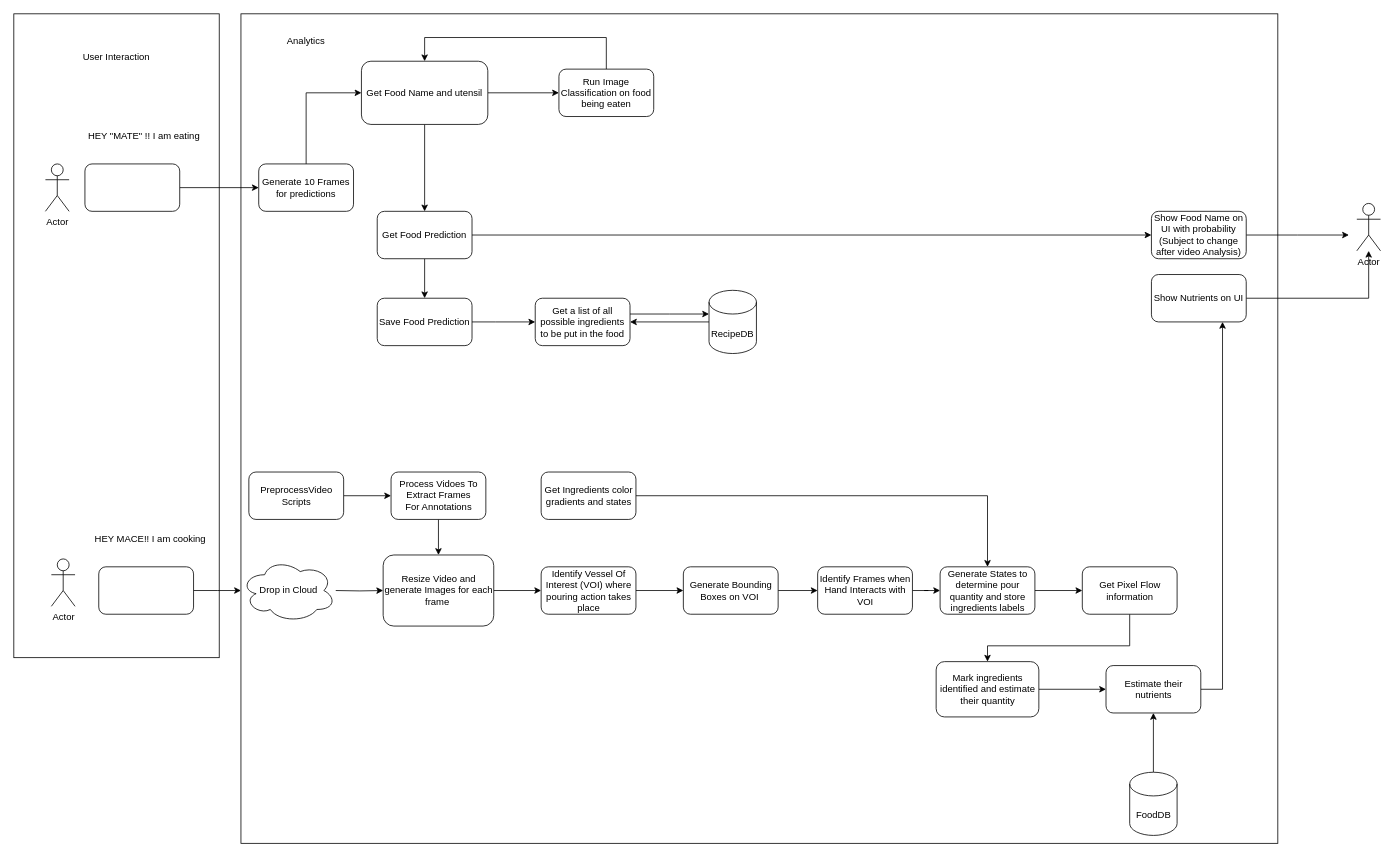
The diagram is 1394 pixels wide and 857 high, and some of its shapes have lost their labels. The centre of each missing label's shape, as x and y in pixels:
Record Cooking Video: point 146,590
Run Camera for 5-10 seconds: point 132,187
